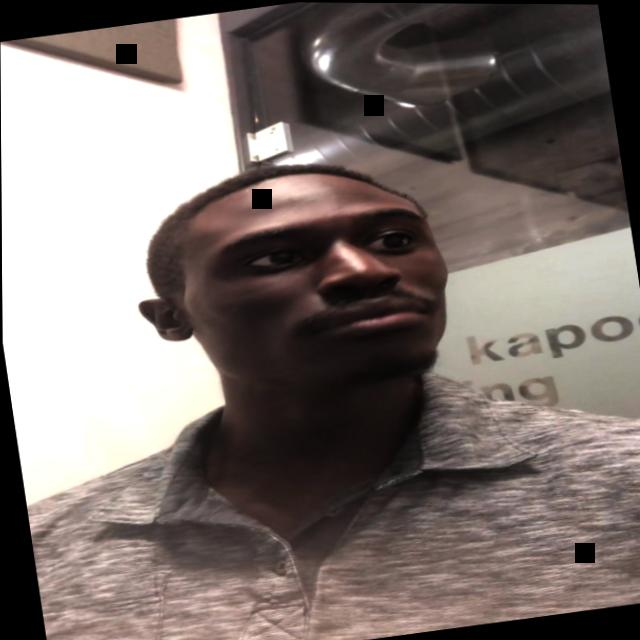NO-Mask: (154, 164, 460, 412)
